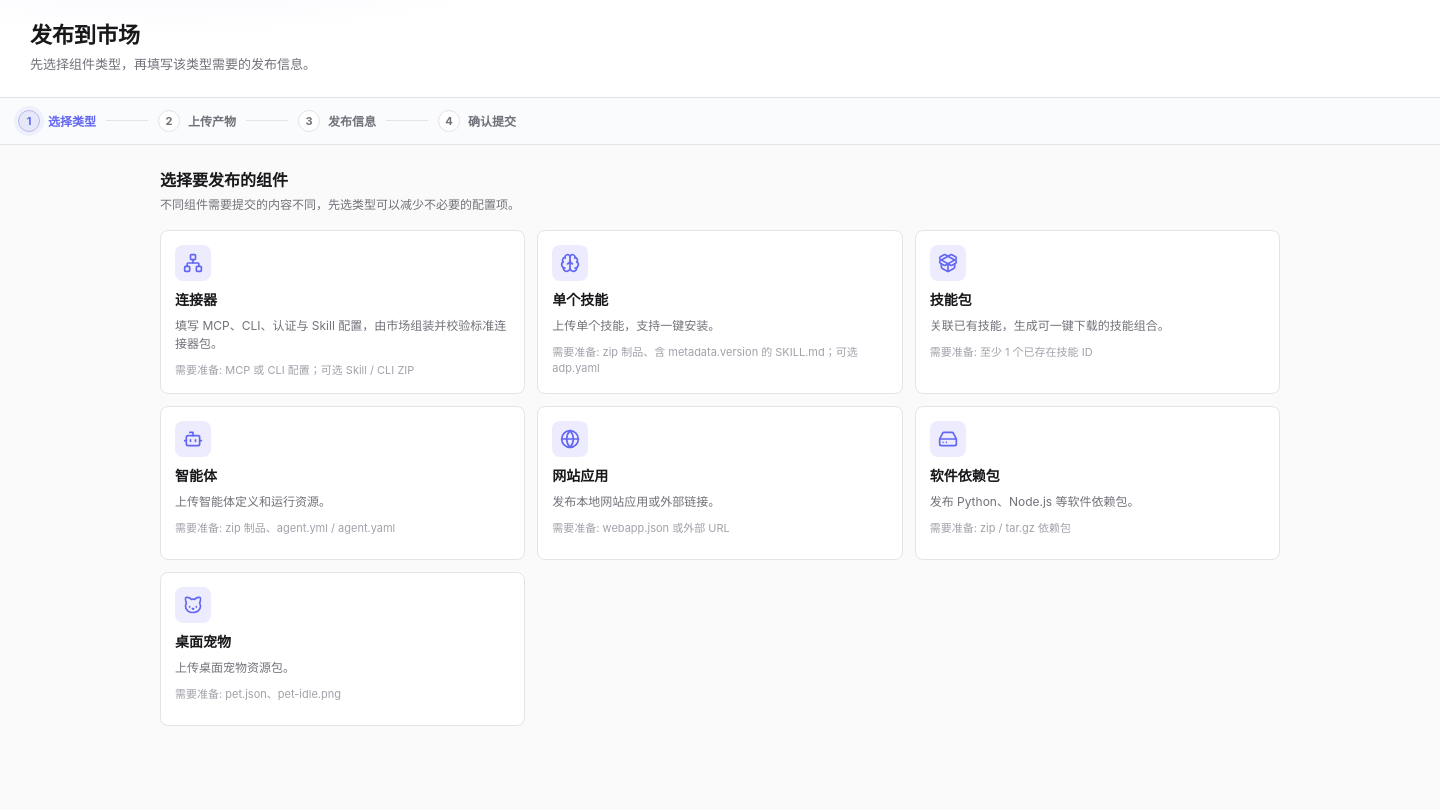
it: guided publish workflow › requires MCP or CLI before advancing a connector release
This screenshot has width=1440, height=810.
Step 1. Click the text "连接器" → (196, 300), box [175,291,217,308]
(page scrolled)
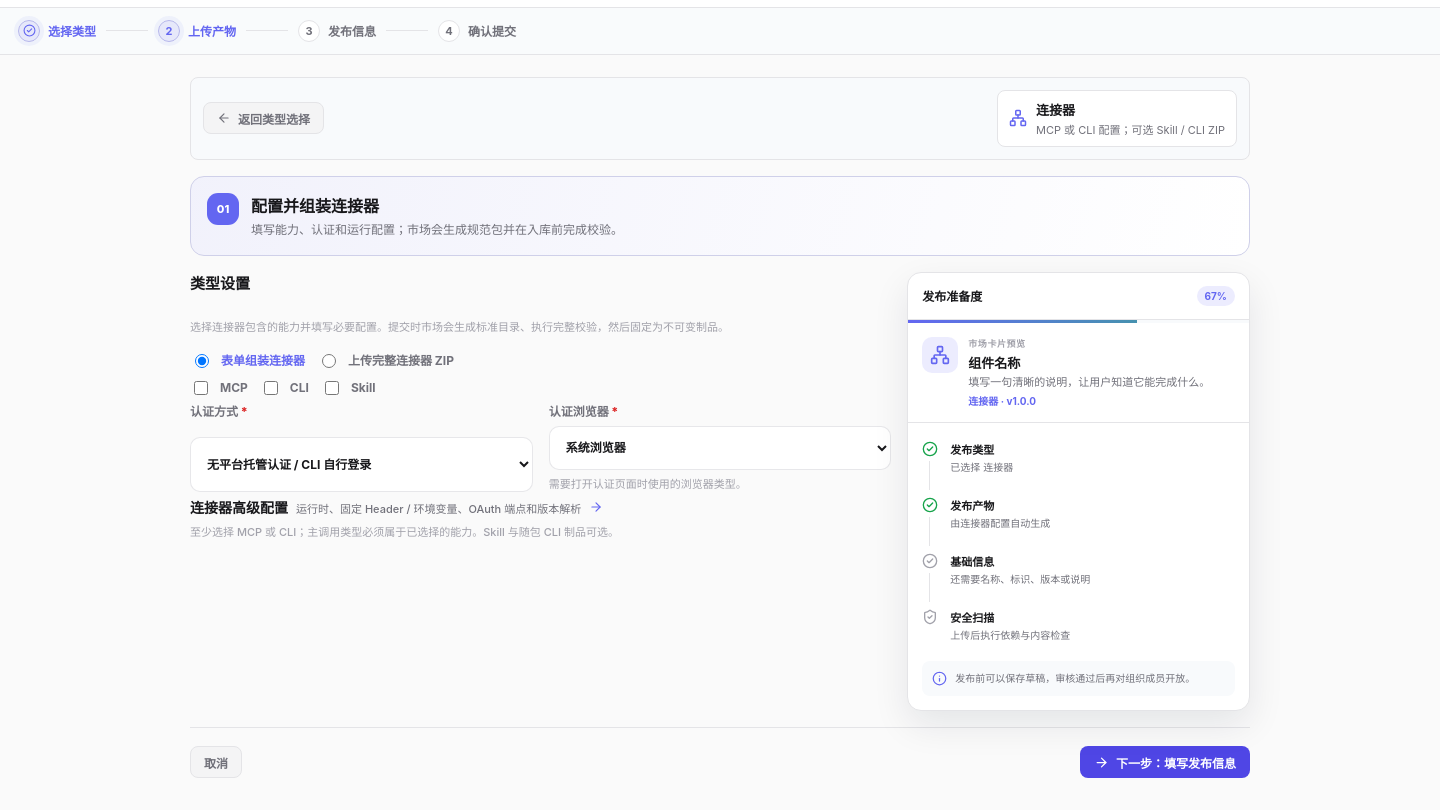
Step 2. Click the button "下一步：填写发布信息" → (1165, 762), box [1080,746,1250,778]
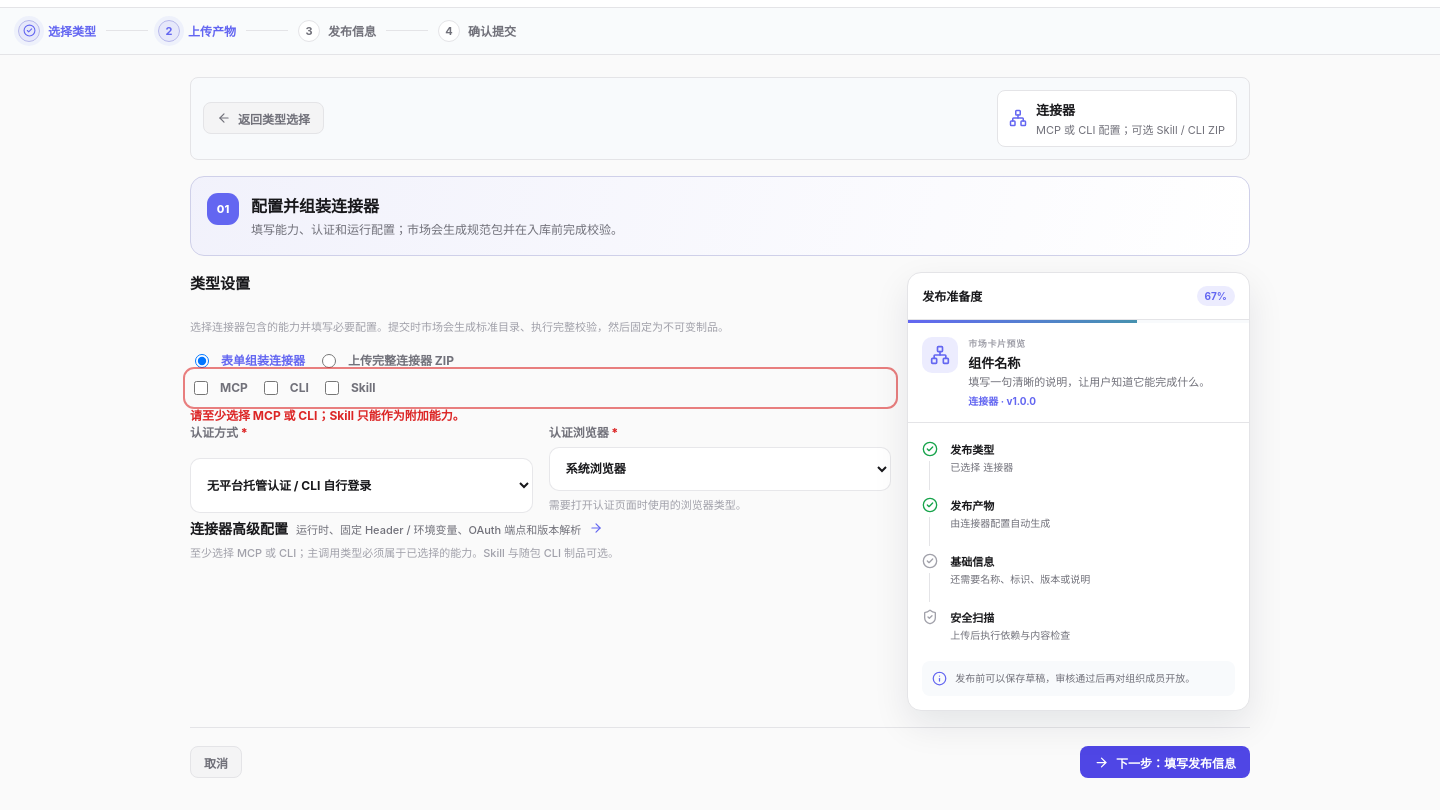
Check: the message reads "请至少选择 MCP 或 CLI；Skill 只能作为附加能力。", box [190,408,465,423]
